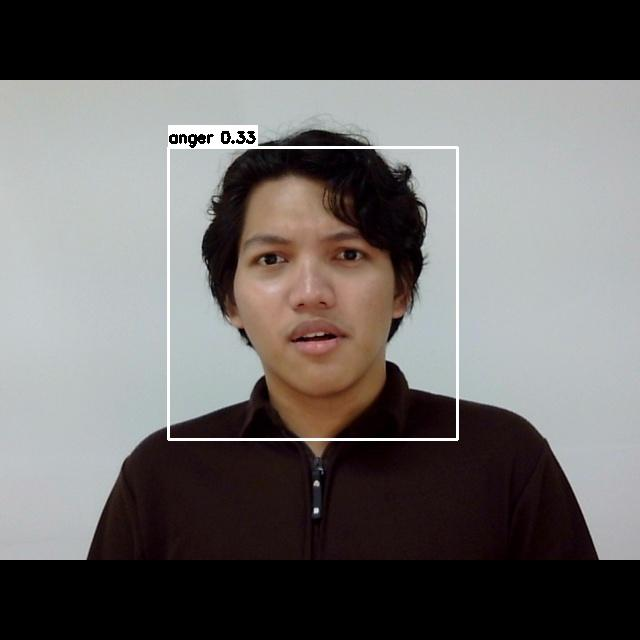Surprised: (226, 199, 407, 389)
